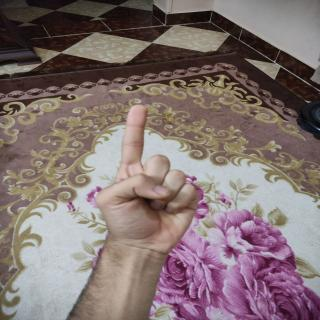BAA: (92, 100, 205, 258)
